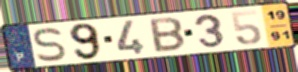3: (192, 12, 229, 49)
4: (115, 18, 149, 56)
5: (229, 9, 263, 46)
9: (68, 22, 106, 61)
B: (148, 16, 187, 54)
S: (32, 26, 68, 63)
